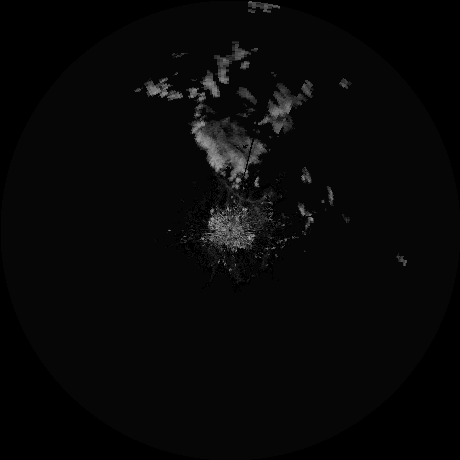frontgust: (222, 182, 267, 204)
